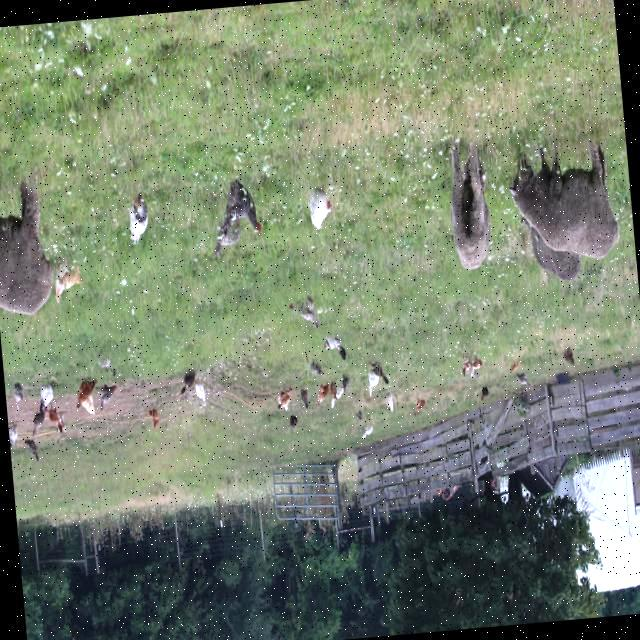sheep: (509, 140, 617, 258), (0, 178, 52, 309), (450, 144, 489, 270), (520, 218, 580, 279)
